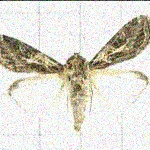Spodoptera litura: (0, 14, 149, 132)
